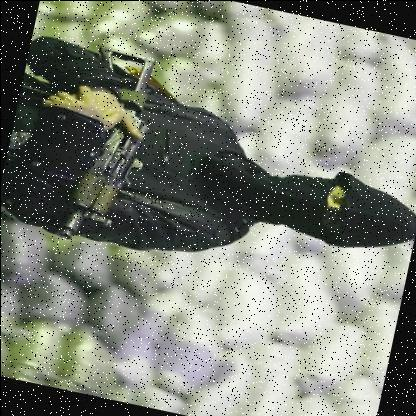rifle: (0, 38, 180, 256)
